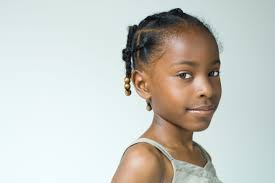person: (122, 7, 223, 135)
